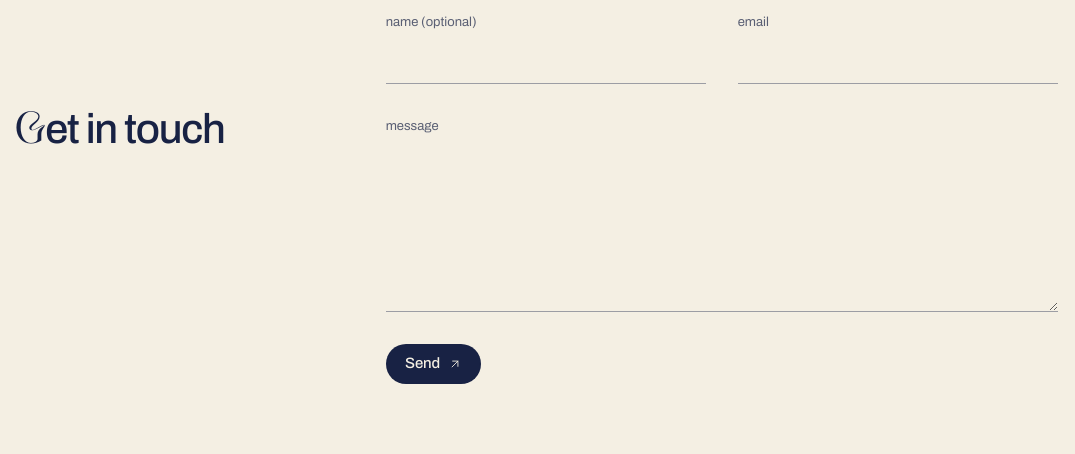
shows field errors on empty submit
The width and height of the screenshot is (1075, 454).
Click the button "Send" at (434, 364), box [386, 344, 482, 384]
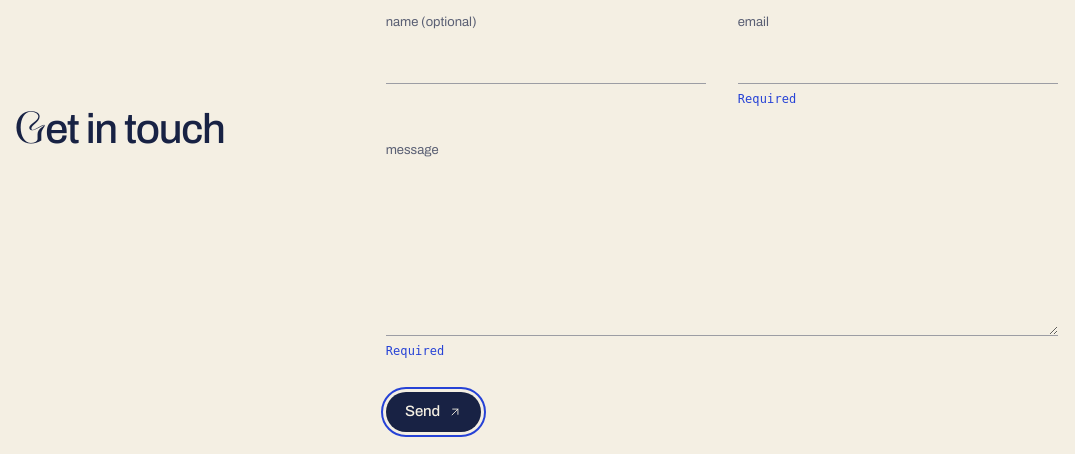
Expected: the text "Required" is shown 2 times, [738, 92, 796, 106]; [386, 344, 444, 358]
